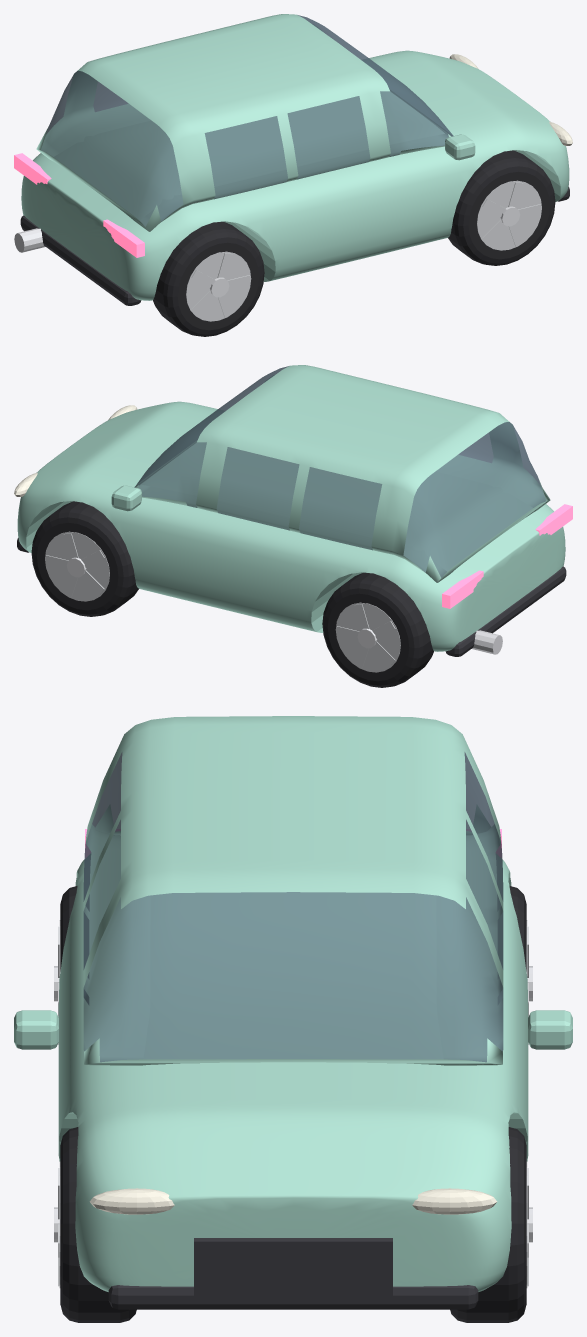
Rendered from pocket_hatch.fbx.
3 views of the same model, one above another, from view 1: azimuth 30°, elevation 25°; view 2: azimuth 150°, elevation 25°; view 3: azimuth 270°, elevation 25° (orthographic). The views are drawn at different scales.
Visible parts, largest first — view 1: Body.001, Glass.001, Tire.001, Rim.001, Trim.001, TailLight.001, Chrome.001, HeadLight.001; view 2: Body.001, Glass.001, Tire.001, Rim.001, Trim.001, TailLight.001, Chrome.001, HeadLight.001; view 3: Body.001, Glass.001, Trim.001, Tire.001, HeadLight.001, Rim.001.
Boxes of the visible parts, <box> form: Body.001: <box>21,14,569,300</box>; Glass.001: <box>41,15,453,226</box>; Tire.001: <box>153,150,555,336</box>; Rim.001: <box>186,180,541,321</box>; Trim.001: <box>20,187,569,305</box>; TailLight.001: <box>14,153,144,257</box>; Chrome.001: <box>14,206,520,297</box>; HeadLight.001: <box>449,54,572,145</box>; Body.001: <box>17,365,565,651</box>; Glass.001: <box>134,366,545,577</box>; Tire.001: <box>31,501,433,687</box>; Rim.001: <box>45,531,400,672</box>; Trim.001: <box>17,538,566,656</box>; TailLight.001: <box>442,504,572,608</box>; Chrome.001: <box>66,557,502,654</box>; HeadLight.001: <box>14,405,137,496</box>; Body.001: <box>14,716,572,1291</box>; Glass.001: <box>83,752,503,1062</box>; Trim.001: <box>108,1238,478,1309</box>; Tire.001: <box>60,886,526,1322</box>; HeadLight.001: <box>89,1188,497,1214</box>; Rim.001: <box>58,920,528,1287</box>.
Size of the model in its own units: 1119 by 464 by 684.
